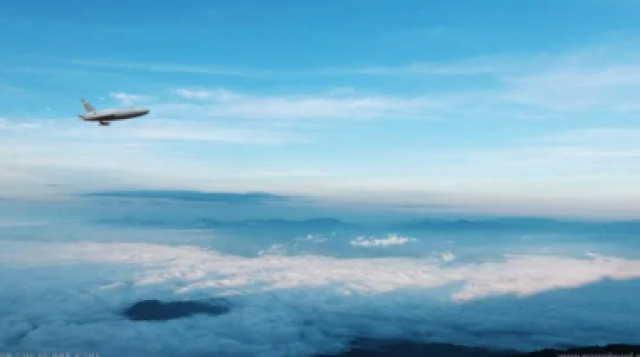military drone: (76, 96, 150, 126)
